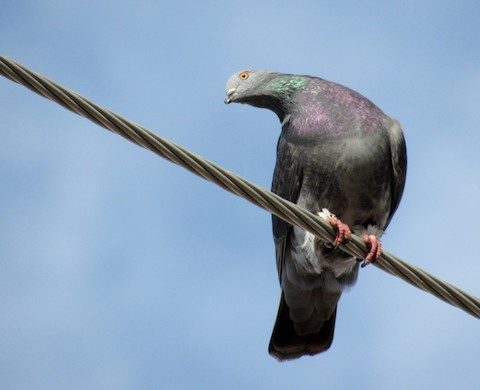pigeon: (218, 60, 417, 366)
